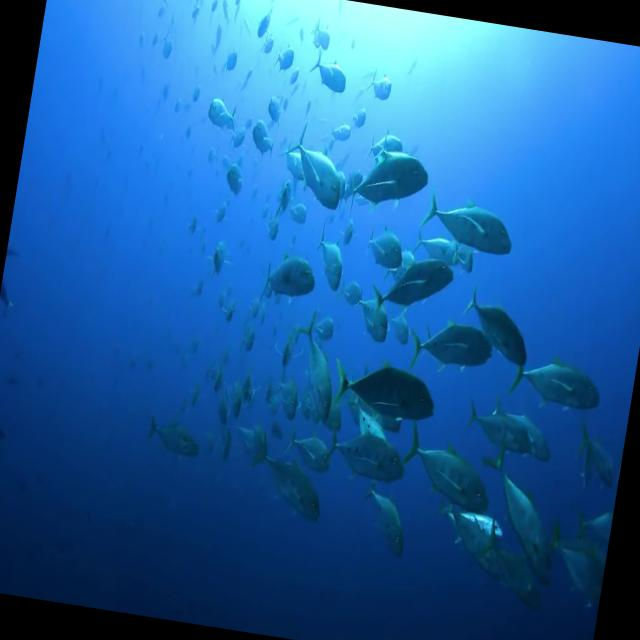fish: (466, 438, 574, 592), (328, 352, 442, 441), (396, 429, 496, 516), (458, 386, 561, 468), (414, 190, 516, 270), (275, 123, 353, 221), (340, 147, 434, 226), (454, 293, 536, 372), (322, 419, 408, 494), (372, 250, 454, 327), (508, 356, 606, 420), (404, 314, 494, 382), (256, 254, 320, 309)
